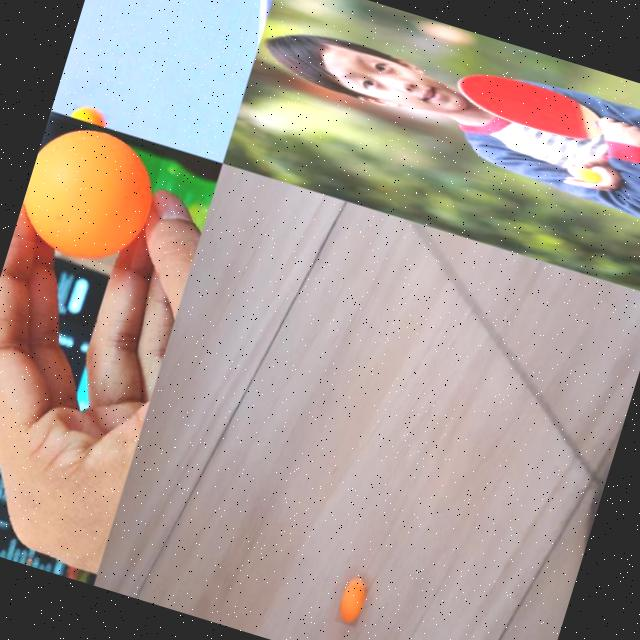ping-pong-ball: (11, 115, 166, 271), (333, 580, 368, 628), (68, 102, 110, 127), (566, 163, 600, 184)
